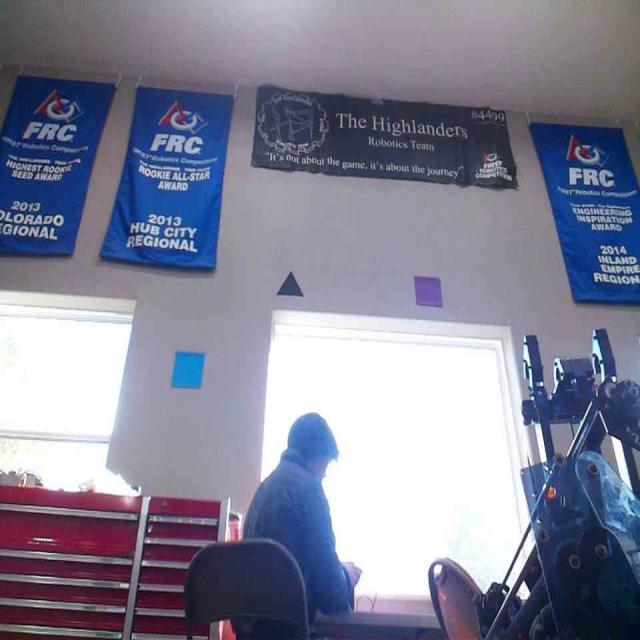square_blue: (170, 350, 206, 388)
square_purple: (413, 274, 443, 306)
triangle_black: (276, 269, 303, 296)
